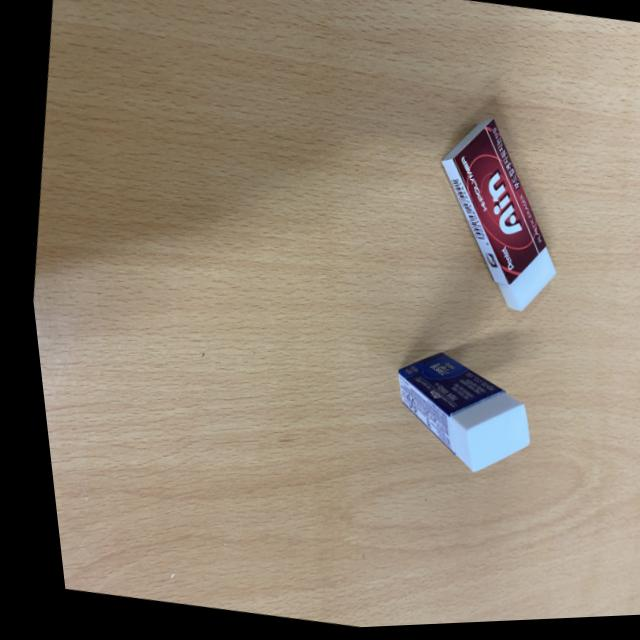red: (403, 106, 585, 330), (367, 344, 537, 490)
